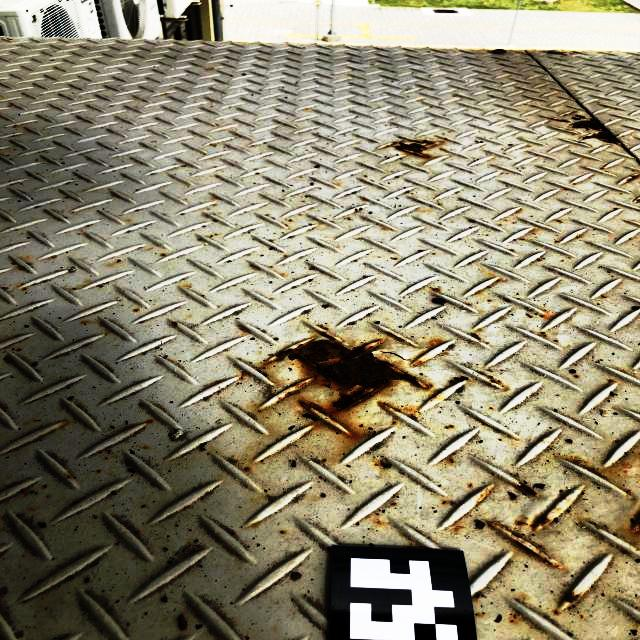Corrosion: (265, 338, 432, 410), (571, 117, 623, 145), (388, 139, 441, 158), (299, 400, 332, 418), (516, 540, 545, 558), (509, 531, 538, 548), (280, 383, 307, 400), (384, 330, 408, 342), (517, 484, 538, 497), (563, 592, 581, 604), (317, 332, 337, 339), (537, 517, 549, 527), (492, 48, 507, 54), (171, 320, 179, 327), (630, 175, 637, 178)
